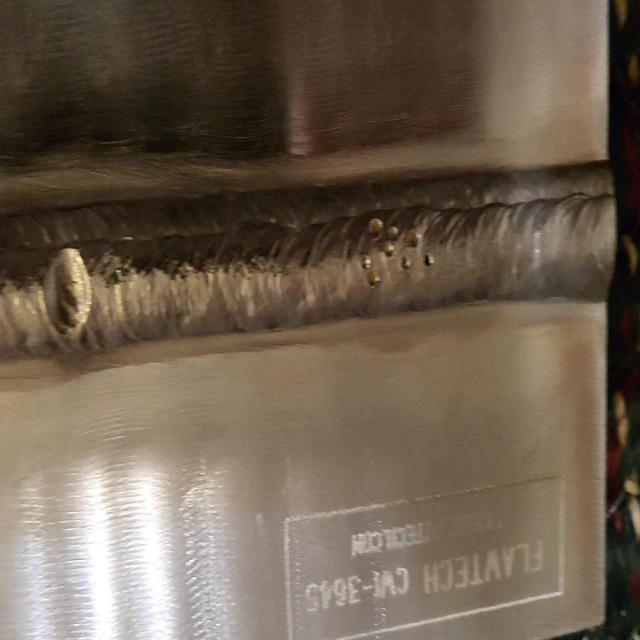Welding Line: (0, 205, 612, 340)
Workpiece: (4, 8, 603, 629)
porosity: (358, 216, 434, 290), (44, 248, 92, 349)
